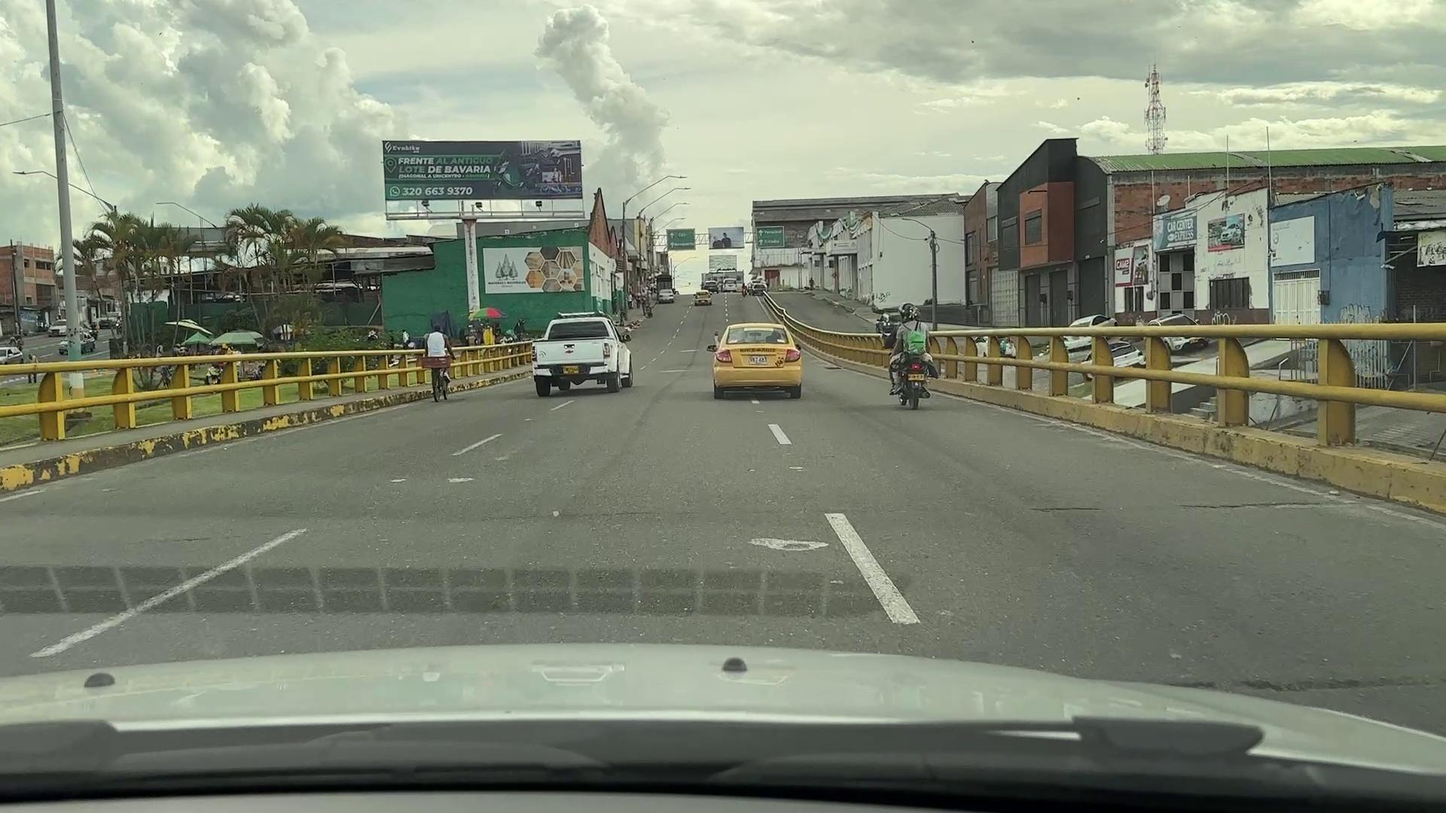bache: (749, 537, 826, 551)
grieta: (1180, 502, 1321, 509), (1030, 507, 1101, 512)
